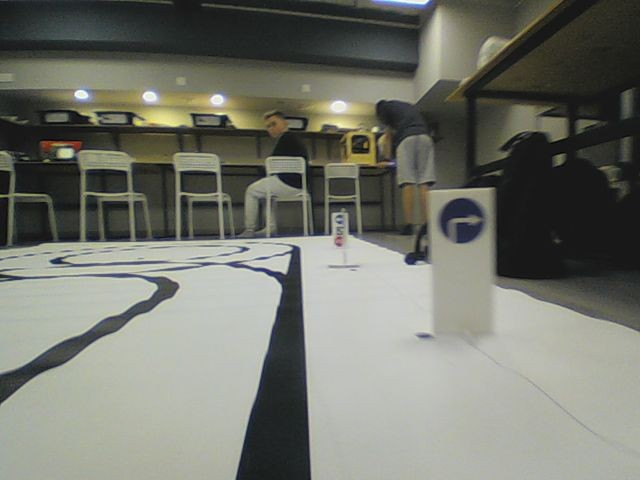Right: (436, 196, 489, 246)
